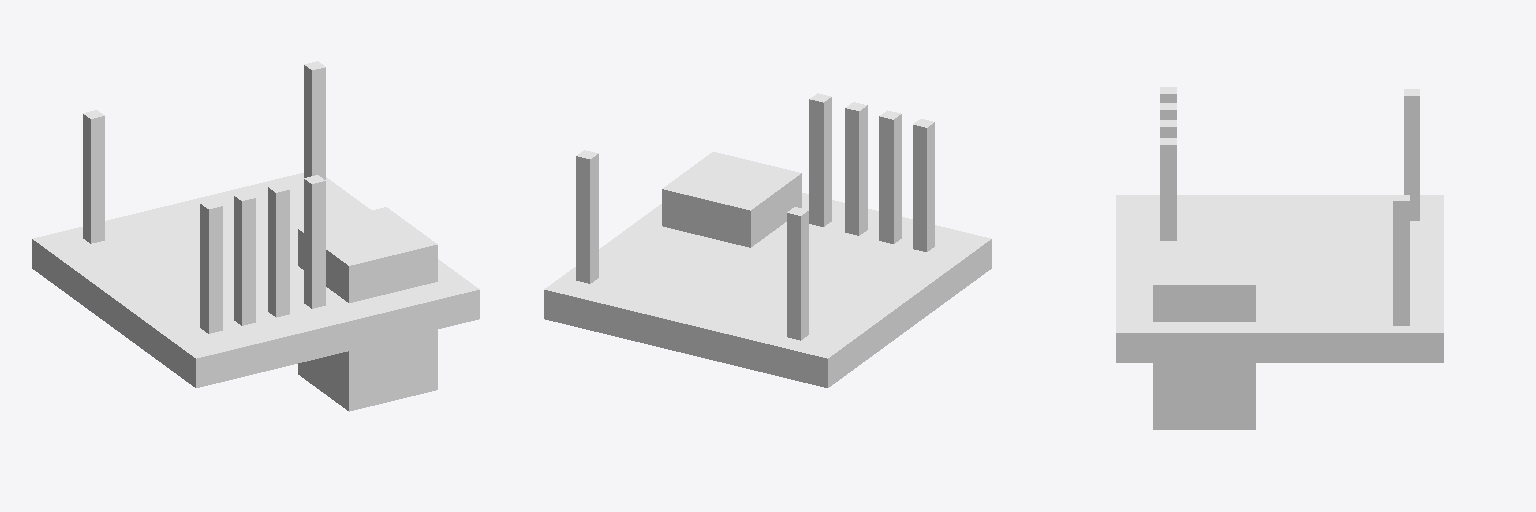
Rendered from scene_decimated.obj.
3 views of the same model, side by side, from view 1: azimuth 30°, elevation 25°; view 2: azimuth 150°, elevation 25°; view 3: azimuth 270°, elevation 25° (orthographic).
Visible parts, largest first — view 1: Cube.001, Cube_(7), Cube_(1), Cube_(4), Cube_(2), Cube_(6), Cube_(3), Cube_(5); view 2: Cube.001, Cube_(7), Cube_(4), Cube_(3), Cube_(5), Cube_(2), Cube_(6), Cube_(1); view 3: Cube.001, Cube_(7), Cube_(5), Cube_(6), Cube_(4).
Part boxes in pixels (bbox=[...]): Cube.001: bbox=[32, 173, 479, 387]; Cube_(7): bbox=[298, 207, 437, 411]; Cube_(1): bbox=[200, 200, 222, 333]; Cube_(4): bbox=[304, 175, 325, 308]; Cube_(2): bbox=[234, 192, 255, 325]; Cube_(6): bbox=[83, 110, 104, 243]; Cube_(3): bbox=[268, 184, 289, 317]; Cube_(5): bbox=[304, 61, 325, 179]; Cube.001: bbox=[544, 193, 991, 387]; Cube_(7): bbox=[662, 152, 801, 247]; Cube_(4): bbox=[809, 93, 831, 226]; Cube_(3): bbox=[845, 102, 867, 235]; Cube_(5): bbox=[576, 150, 598, 283]; Cube_(2): bbox=[879, 110, 901, 243]; Cube_(6): bbox=[787, 207, 808, 340]; Cube_(1): bbox=[913, 119, 934, 251]; Cube.001: bbox=[1116, 195, 1443, 362]; Cube_(7): bbox=[1153, 241, 1255, 429]; Cube_(5): bbox=[1393, 195, 1409, 325]; Cube_(6): bbox=[1404, 89, 1419, 220]; Cube_(4): bbox=[1160, 138, 1176, 240].
Bounding box in the file's own units: 20 × 15.68 × 20.